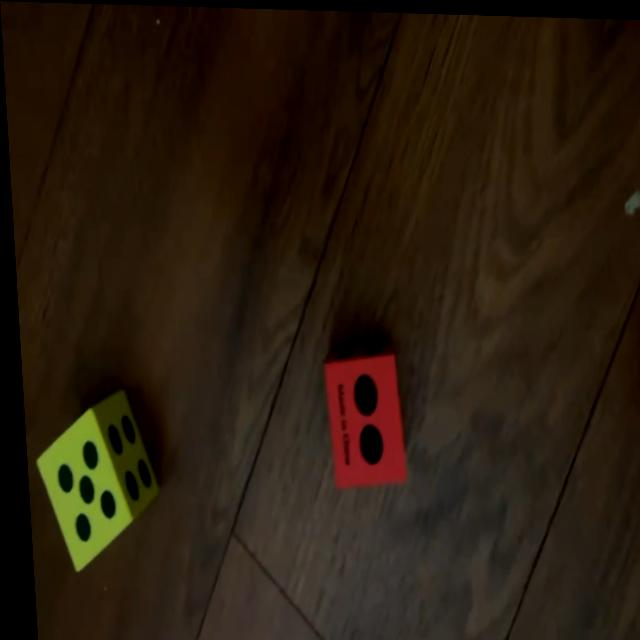red_block: (320, 344, 402, 485)
